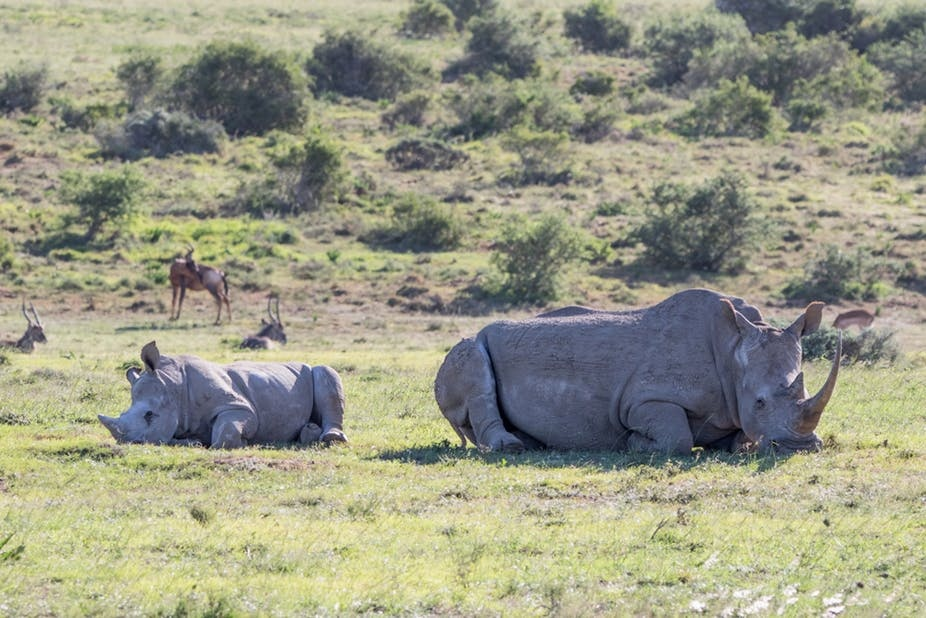rhino: (435, 291, 842, 459), (95, 343, 348, 451)
